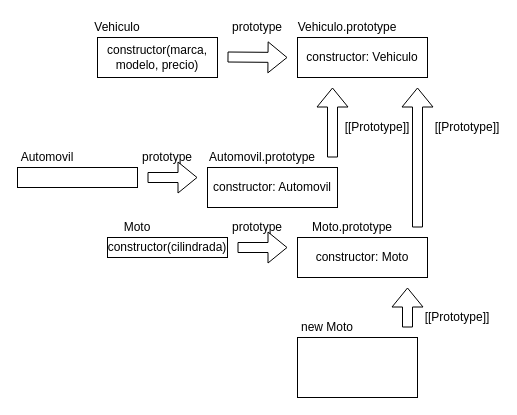
The diagram is 517 pixels wide and 415 high, and some of its shapes have lost their labels. Each missing label, with the box of its shape:
constructor(puertas): (16, 166, 138, 188)
marca: "Honda", modelo: "Titan, precio: 60000, cilindrada: 125: (296, 336, 418, 398)
